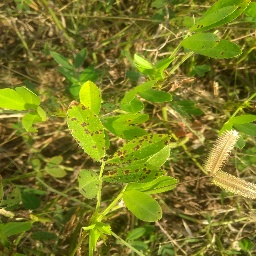GroundNut_Leaf: (66, 100, 104, 161), (110, 133, 173, 162), (191, 1, 252, 30), (123, 191, 163, 223), (103, 165, 165, 184), (1, 86, 41, 112), (78, 166, 100, 205), (179, 32, 219, 52), (1, 177, 21, 210), (110, 113, 147, 130), (141, 88, 173, 104), (72, 47, 89, 68)
